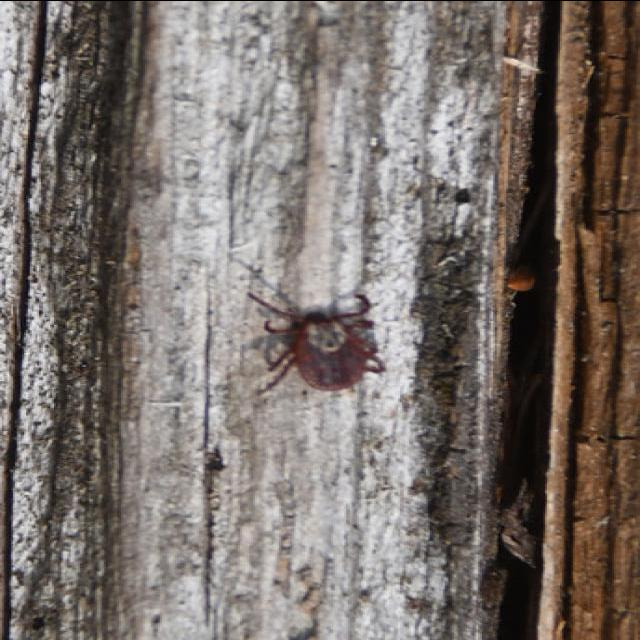Dermacentor Reticulatus-F: (247, 292, 385, 392)
